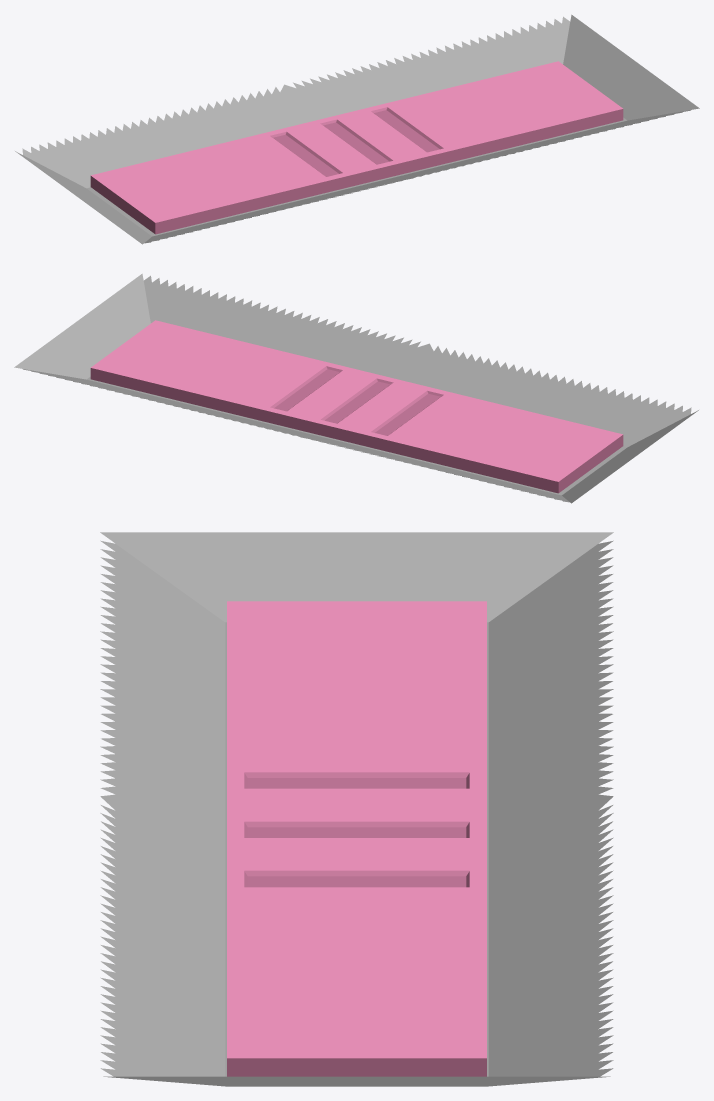
Rendered from Chicle.fbx.
3 views of the same model, one above another, from view 1: azimuth 30°, elevation 25°; view 2: azimuth 150°, elevation 25°; view 3: azimuth 270°, elevation 25° (orthographic). The views are drawn at different scales.
Parts seen in each view (by area): view 1: Cube; view 2: Cube; view 3: Cube.
Part boxes in pixels (left/top/right/bottom): Cube: left=15, top=14, right=699, bottom=244; Cube: left=14, top=273, right=698, bottom=503; Cube: left=100, top=532, right=613, bottom=1086.
Bounding box in the file's own units: 238 × 10.21 × 95.1.
